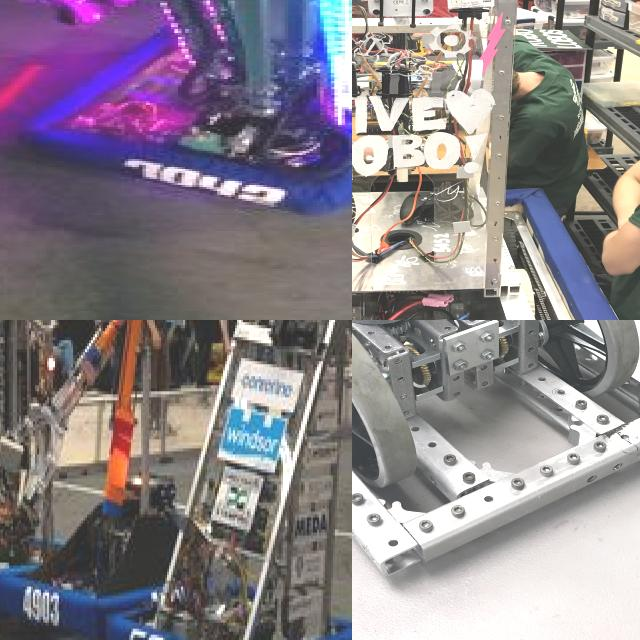FRC-Robots: (352, 0, 640, 320), (0, 0, 352, 249), (352, 320, 640, 578), (123, 320, 352, 640), (2, 320, 134, 640), (0, 320, 67, 614)
